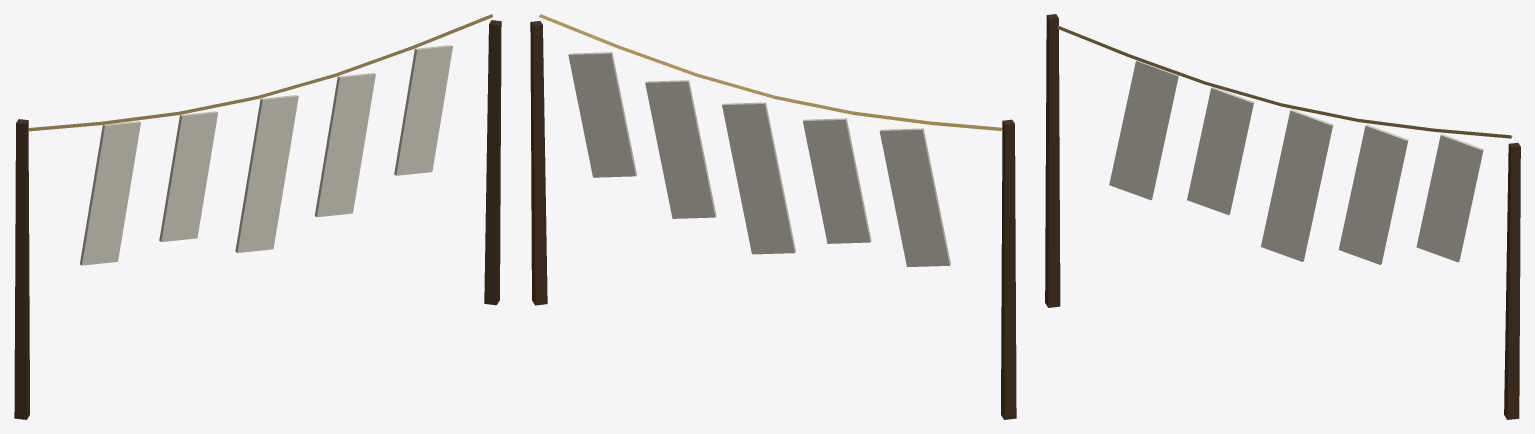
Rendered from br_x_cloth_line.glb.
3 renders of one model, left to right at view 1: azimuth 30°, elevation 25°; view 2: azimuth 150°, elevation 25°; view 3: azimuth 330°, elevation 25°, orthographic. The views are drawn at different scales.
Visible parts, largest first — view 1: br_x_cloth_line; view 2: br_x_cloth_line; view 3: br_x_cloth_line.
Boxes of the visible parts, x1=… form: br_x_cloth_line: x1=14, y1=14, x2=501, y2=419; br_x_cloth_line: x1=530, y1=14, x2=1016, y2=419; br_x_cloth_line: x1=1045, y1=14, x2=1520, y2=419.
Size of the model in its own units: 3.11 by 1.8 by 0.1223.
